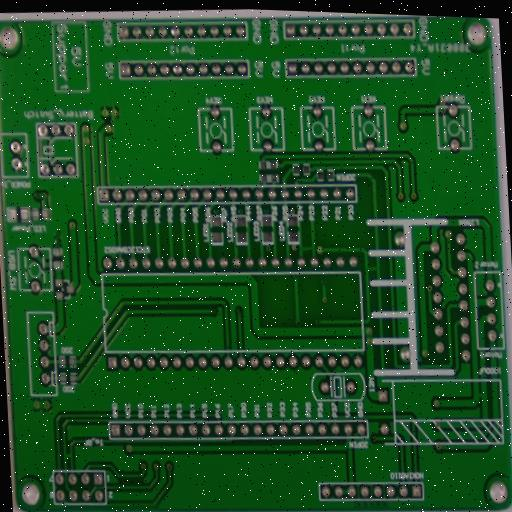short_circuit: (296, 236, 320, 259), (362, 259, 382, 279), (59, 446, 76, 465), (474, 387, 488, 404), (336, 157, 348, 172)
